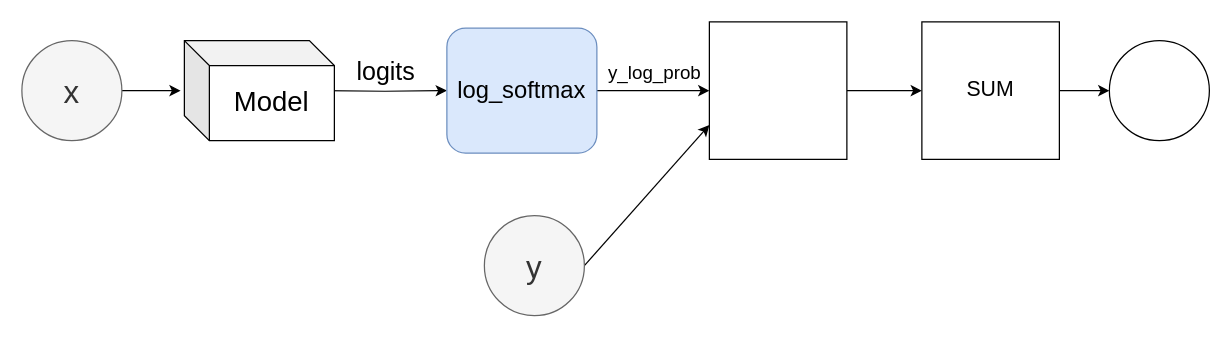
The diagram is 1231 pixels wide and 338 high, and some of its shapes have lost their labels. The box of each missing label's shape, as (x1, y1, x2, y2) in pixels:
CE LOSS: (1108, 39, 1209, 141)
index_select: (708, 21, 847, 159)
